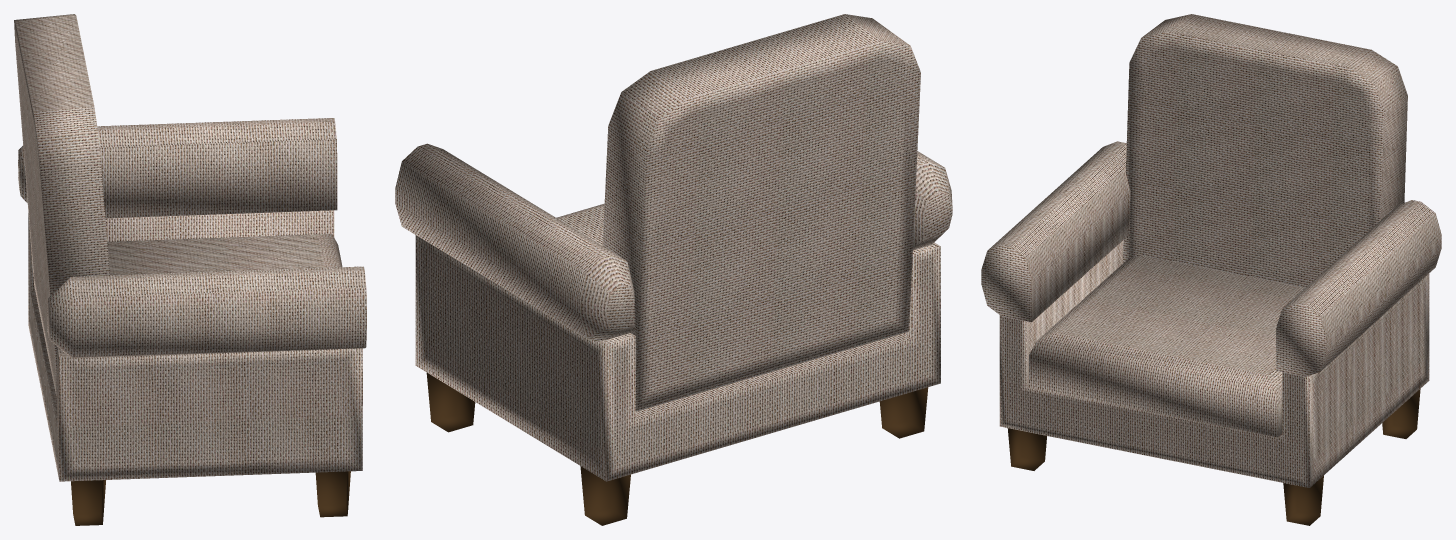
The model's file is Seat.glb.
3 views of the same model, side by side, from view 1: azimuth 30°, elevation 25°; view 2: azimuth 150°, elevation 25°; view 3: azimuth 270°, elevation 25° (orthographic). The views are drawn at different scales.
Visible parts, largest first — view 1: Cube.010; view 2: Cube.010; view 3: Cube.010.
Boxes of the visible parts, x1,y1,x2,y2 form: Cube.010: (14,14,366,525); Cube.010: (395,14,952,525); Cube.010: (981,14,1441,525).
Size of the model in its own units: 0.6879 by 0.6471 by 0.7525.
2 materials, 1 textured.
